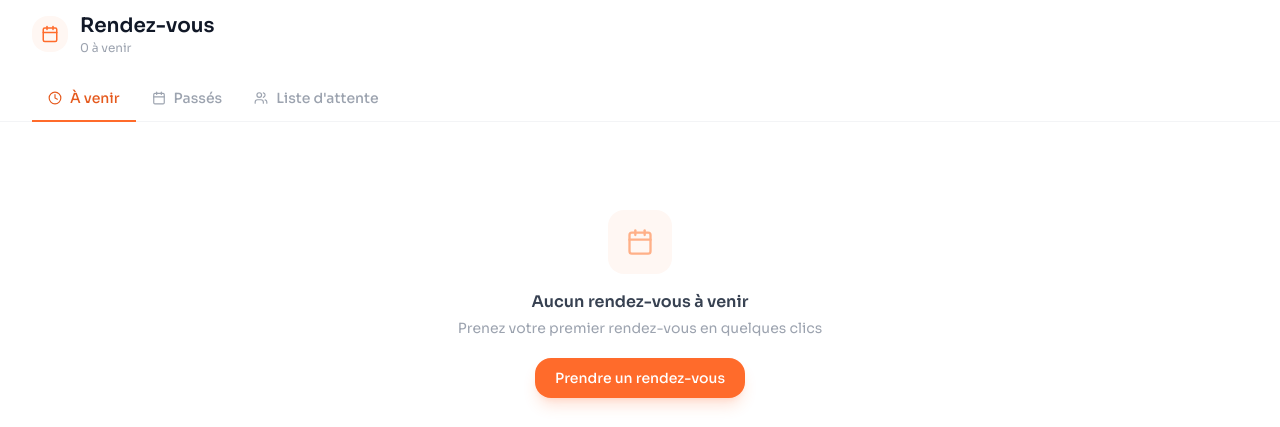
Scenario: AppointmentsPage › affiche les rendez-vous terminés dans l'onglet Passés
Expected: the text "Aucun rendez-vous à venir" is shown, left=532, top=291, right=748, bottom=312
Click the button "Passés": (187, 99) left=136, top=76, right=238, bottom=122
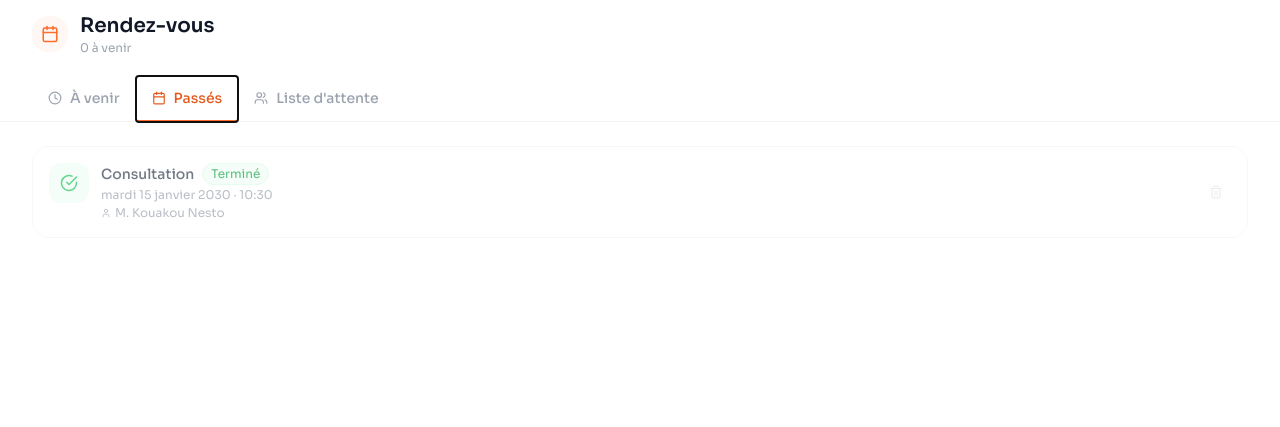
Now the heading "Consultation" is shown, box left=101, top=164, right=194, bottom=184
Now the text "Terminé" is shown, box left=202, top=163, right=269, bottom=185
